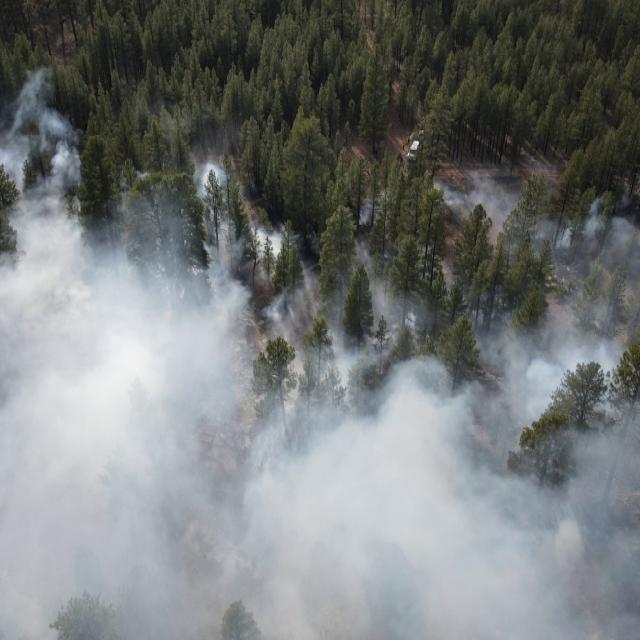smoke: (0, 162, 640, 640), (0, 67, 78, 161), (156, 108, 247, 162)
